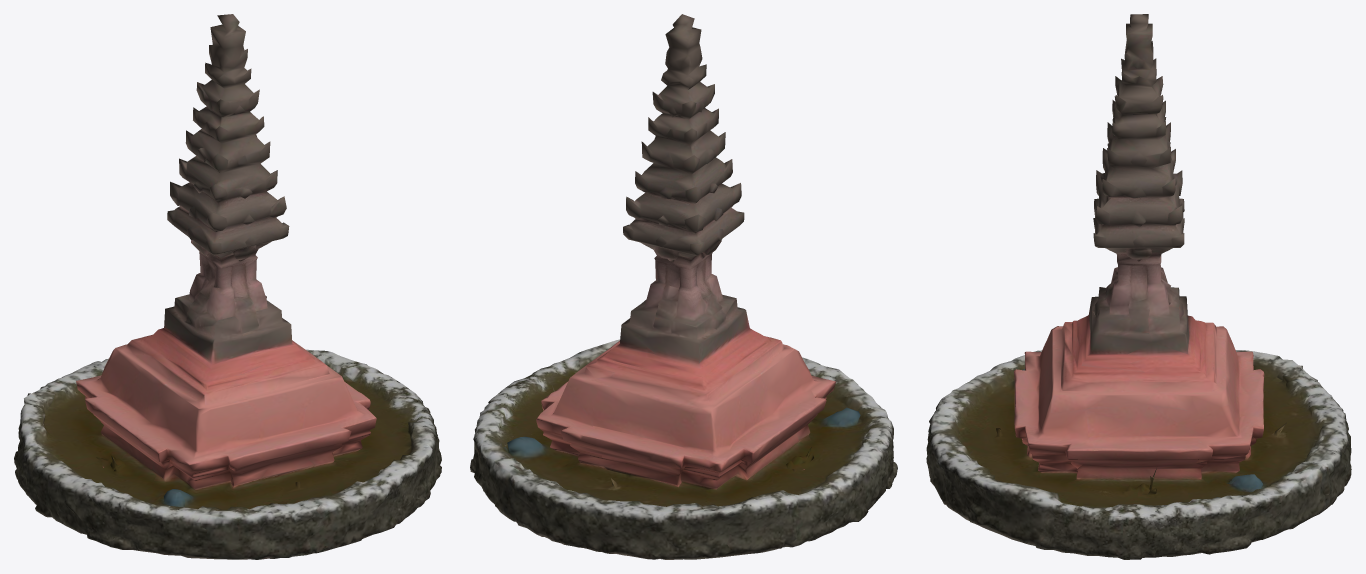
Rendered from monumen_depan_bhagawan.glb.
The picture shows the model from 3 angles, left to right: view 1: azimuth 30°, elevation 25°; view 2: azimuth 150°, elevation 25°; view 3: azimuth 270°, elevation 25°; orthographic projection.
Parts seen in each view (by area): view 1: tripo_node_0bf6e70b-d618-4954-a90e-4120de933357; view 2: tripo_node_0bf6e70b-d618-4954-a90e-4120de933357; view 3: tripo_node_0bf6e70b-d618-4954-a90e-4120de933357.
Part boxes in pixels (box(x1,y1,x2,y2)): tripo_node_0bf6e70b-d618-4954-a90e-4120de933357: box(14, 14, 441, 559); tripo_node_0bf6e70b-d618-4954-a90e-4120de933357: box(470, 14, 897, 559); tripo_node_0bf6e70b-d618-4954-a90e-4120de933357: box(926, 14, 1351, 559).
Bounding box in the file's own units: 0.8426 × 1 × 0.8406.
Materials: 1 (1 with a texture image).
